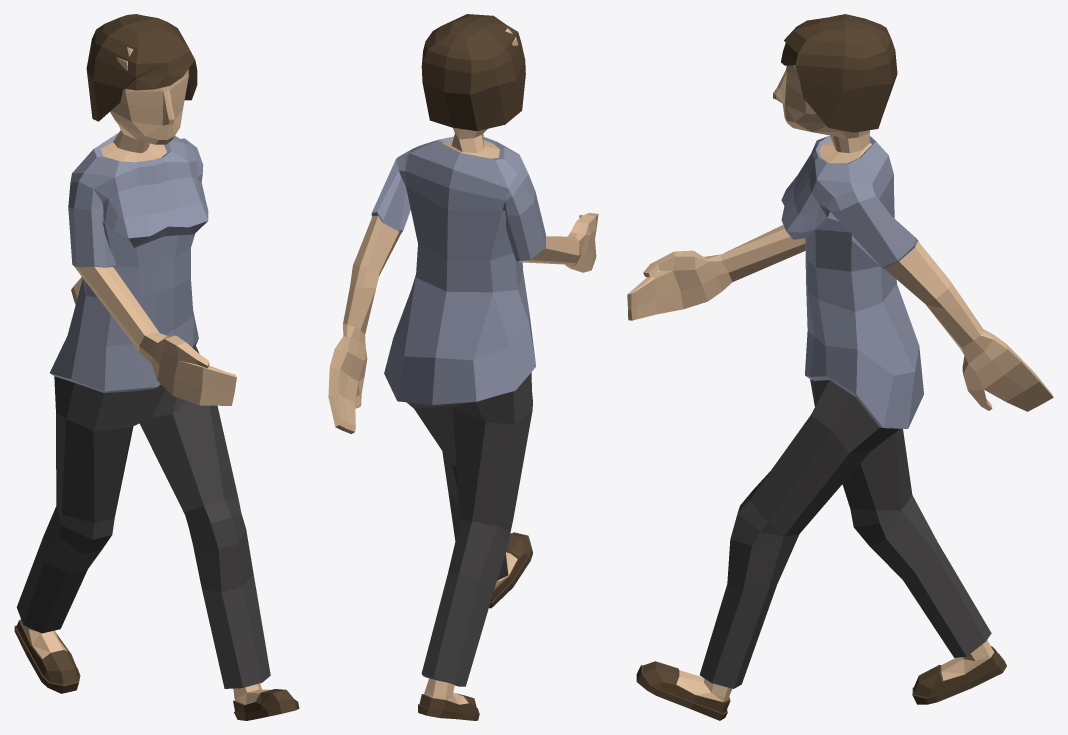
Rendered from Female_Running.glb.
The picture shows the model from 3 angles, left to right: view 1: azimuth 30°, elevation 25°; view 2: azimuth 150°, elevation 25°; view 3: azimuth 270°, elevation 25°; orthographic projection. The views are drawn at different scales.
Visible parts, largest first — view 1: Female_Running; view 2: Female_Running; view 3: Female_Running.
Part boxes in pixels (x1=…): Female_Running: x1=14, y1=14, x2=299, y2=720; Female_Running: x1=328, y1=14, x2=598, y2=720; Female_Running: x1=627, y1=14, x2=1053, y2=720.
Size of the model in its own units: 0.3752 by 1.67 by 0.925.
